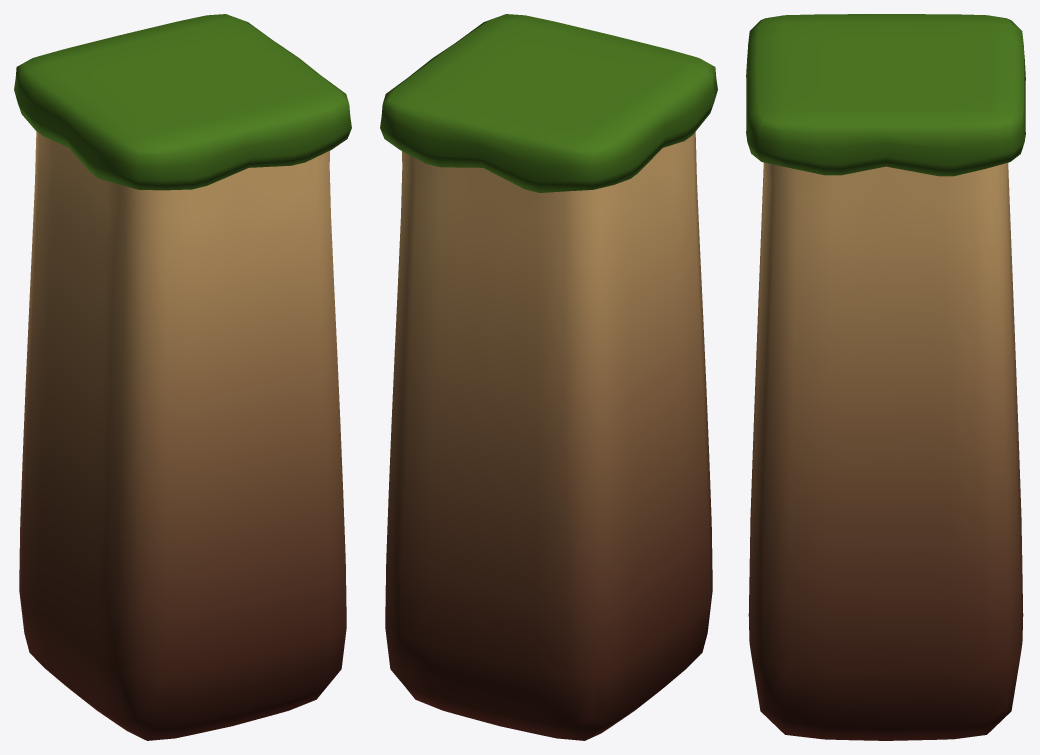
The model's file is TileGreen_3x5m.fbx.
3 renders of one model, left to right at view 1: azimuth 30°, elevation 25°; view 2: azimuth 150°, elevation 25°; view 3: azimuth 270°, elevation 25°, orthographic. The views are drawn at different scales.
Visible parts, largest first — view 1: TileGreen_3x5m; view 2: TileGreen_3x5m; view 3: TileGreen_3x5m.
Boxes of the visible parts, x1,y1,x2,y2 form: TileGreen_3x5m: (14, 14, 351, 740); TileGreen_3x5m: (380, 14, 717, 740); TileGreen_3x5m: (746, 14, 1025, 740).
Size of the model in its own units: 2 by 5 by 2.
